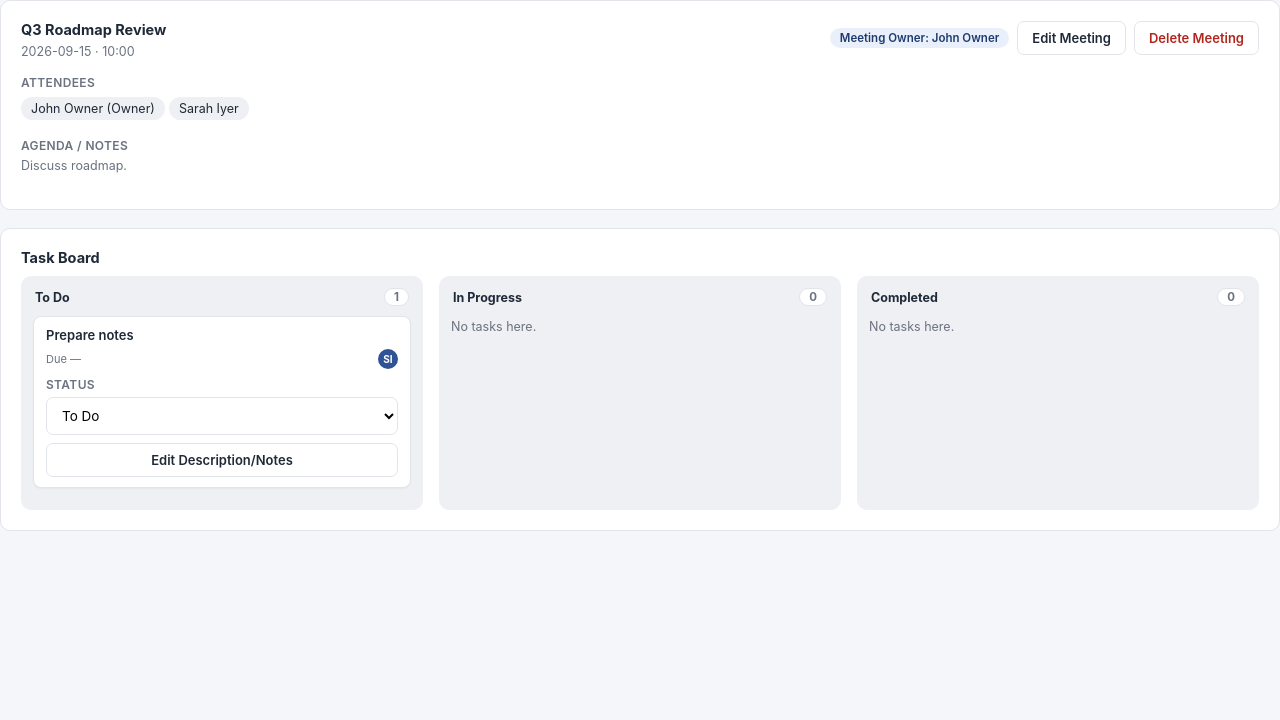
Assign task flow › does not let a non-Owner Admin change the task's assignee
Click the text "Prepare notes": point(90, 335) top-left (46, 327), bottom-right (134, 343)
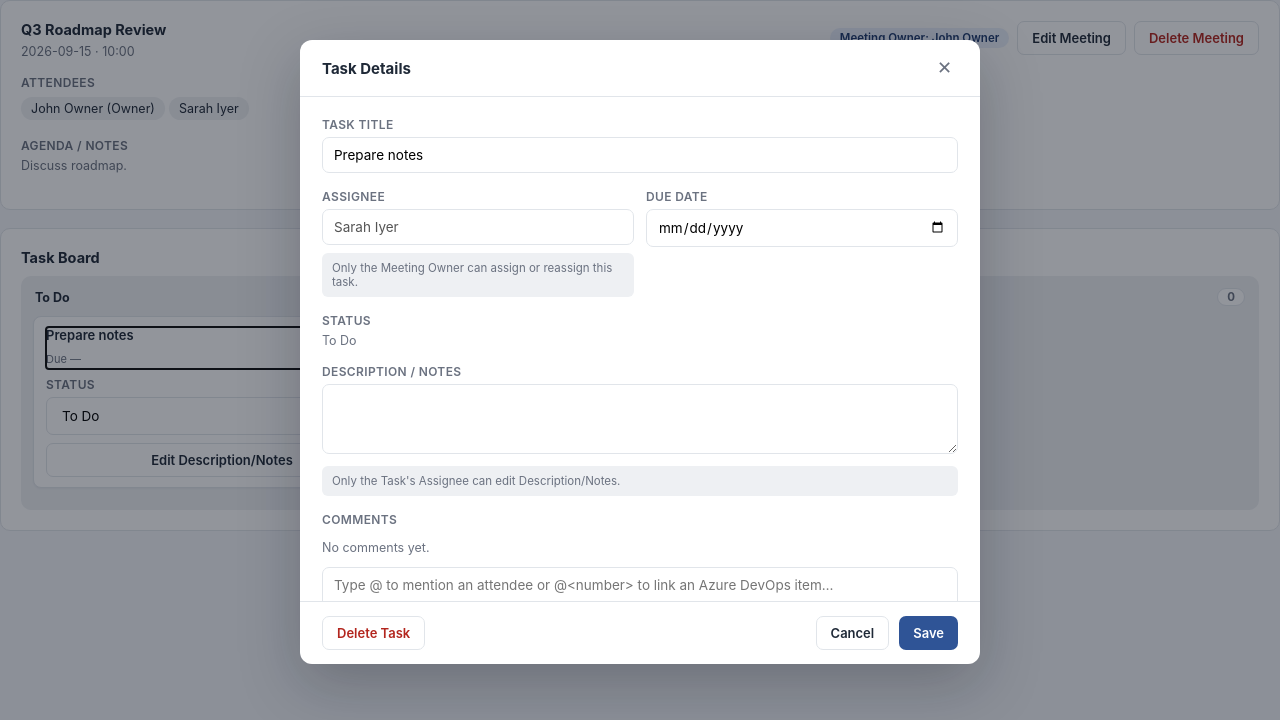
Expected: the text "Only the Meeting Owner can assign or reassign this task." is shown, top-left (322, 253), bottom-right (634, 297)
Expected: the field named "assignee" is disabled, top-left (322, 209), bottom-right (634, 245)
Expected: the field named "assignee" holds "Sarah Iyer", top-left (322, 209), bottom-right (634, 245)
